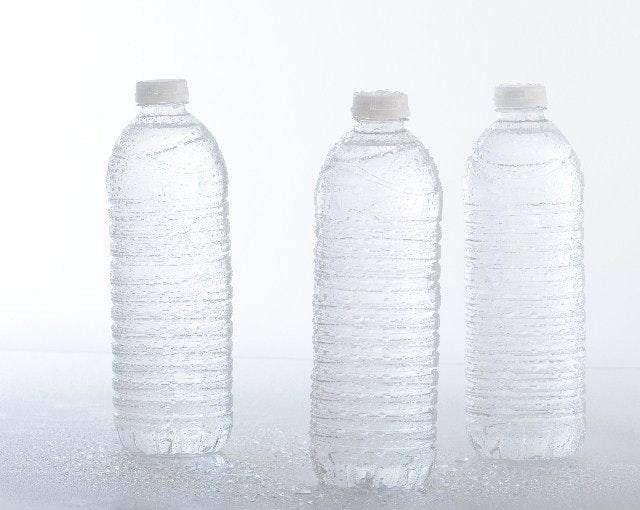bottle: (0, 0, 130, 243), (96, 0, 238, 209), (456, 0, 593, 215)
